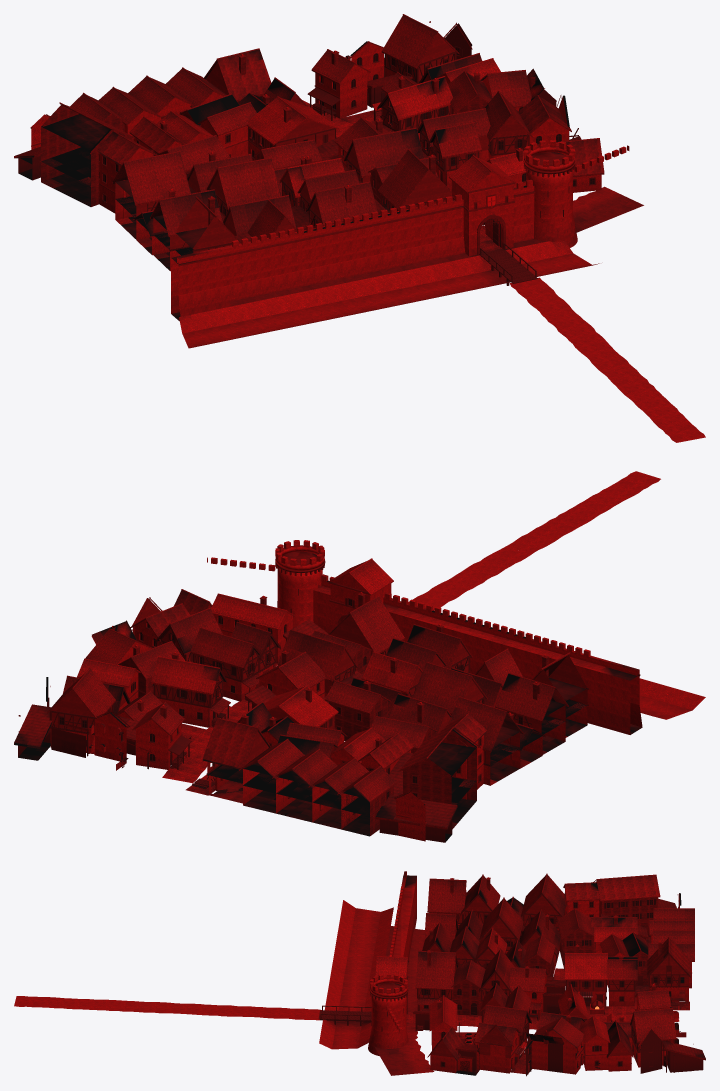
The model's file is sud.gltf.
The picture shows the model from 3 angles, top to bottom: view 1: azimuth 30°, elevation 25°; view 2: azimuth 150°, elevation 25°; view 3: azimuth 270°, elevation 25°; orthographic projection. The views are drawn at different scales.
Parts seen in each view (by area): view 1: Zona_sud_0_-4, Zona_sud_-1_-4, Zona_sud_-1_-2, Zona_sud_0_-3, Zona_sud_-1_-3, Zona_sud_-2_-4, Zona_sud_0_-2, Zona_sud_-2_-3, Zona_sud_-2_-2, Zona_sud_1_-3, Zona_sud_1_-2, Zona_sud_1_-4 (+3 smaller); view 2: Zona_sud_-1_-2, Zona_sud_0_-3, Zona_sud_0_-2, Zona_sud_-1_-3, Zona_sud_-2_-2, Zona_sud_0_-4, Zona_sud_-2_-3, Zona_sud_-2_-4, Zona_sud_1_-2, Zona_sud_-1_-4, Zona_sud_1_-3, Zona_sud_0_-6 (+2 smaller); view 3: Zona_sud_0_-4, Zona_sud_0_-3, Zona_sud_0_-2, Zona_sud_1_-3, Zona_sud_-1_-3, Zona_sud_1_-2, Zona_sud_-1_-2, Zona_sud_-1_-4, Zona_sud_-2_-2, Zona_sud_-2_-3, Zona_sud_-2_-4, Zona_sud_1_-4 (+3 smaller).
Boxes of the visible parts, bbox=[...] form: Zona_sud_0_-4: bbox=[396, 140, 599, 290]; Zona_sud_-1_-4: bbox=[257, 181, 473, 324]; Zona_sud_-1_-2: bbox=[75, 53, 313, 160]; Zona_sud_0_-3: bbox=[305, 80, 523, 204]; Zona_sud_-1_-3: bbox=[179, 117, 395, 242]; Zona_sud_-2_-4: bbox=[171, 211, 306, 348]; Zona_sud_0_-2: bbox=[238, 41, 459, 137]; Zona_sud_-2_-3: bbox=[112, 146, 223, 271]; Zona_sud_-2_-2: bbox=[14, 102, 154, 218]; Zona_sud_1_-3: bbox=[460, 68, 601, 158]; Zona_sud_1_-2: bbox=[384, 14, 500, 91]; Zona_sud_1_-4: bbox=[573, 145, 643, 229]; Zona_sud_-1_-2: bbox=[223, 685, 433, 836]; Zona_sud_0_-3: bbox=[162, 596, 383, 722]; Zona_sud_0_-2: bbox=[84, 652, 297, 799]; Zona_sud_-1_-3: bbox=[322, 629, 506, 740]; Zona_sud_-2_-2: bbox=[362, 713, 485, 842]; Zona_sud_0_-4: bbox=[260, 540, 434, 641]; Zona_sud_-2_-3: bbox=[448, 654, 580, 785]; Zona_sud_-2_-4: bbox=[548, 641, 705, 734]; Zona_sud_1_-2: bbox=[18, 641, 157, 757]; Zona_sud_-1_-4: bbox=[384, 601, 558, 679]; Zona_sud_1_-3: bbox=[91, 589, 234, 657]; Zona_sud_0_-6: bbox=[504, 490, 633, 552]; Zona_sud_0_-4: bbox=[309, 950, 444, 1055]; Zona_sud_0_-3: bbox=[431, 948, 570, 1052]; Zona_sud_0_-2: bbox=[564, 944, 690, 1043]; Zona_sud_1_-3: bbox=[432, 1005, 573, 1076]; Zona_sud_-1_-3: bbox=[437, 892, 570, 992]; Zona_sud_1_-2: bbox=[564, 1008, 695, 1074]; Zona_sud_-1_-2: bbox=[563, 908, 694, 995]; Zona_sud_-1_-4: bbox=[326, 899, 443, 1005]; Zona_sud_-2_-2: bbox=[564, 874, 681, 941]; Zona_sud_-2_-3: bbox=[436, 873, 567, 927]; Zona_sud_-2_-4: bbox=[336, 871, 439, 950]; Zona_sud_1_-4: bbox=[377, 1008, 442, 1075].
Size of the model in its own units: 81.82 by 14.72 by 135.
43 materials, 24 textured.
